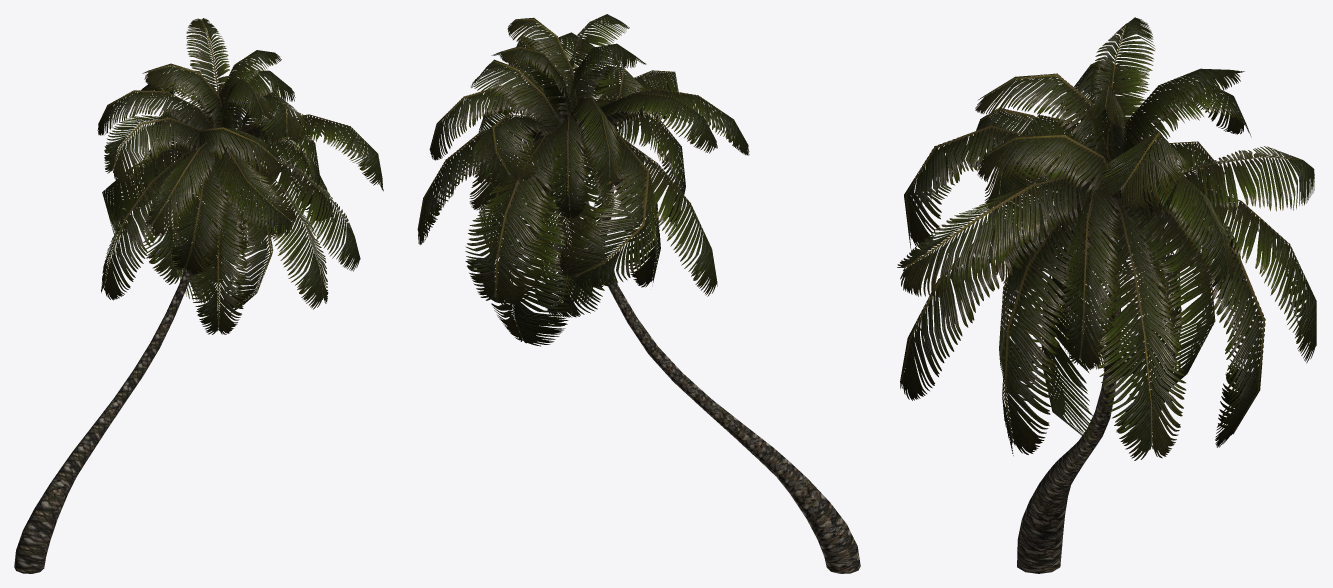
File: palm-bend.glb
3 renders of one model, left to right at view 1: azimuth 30°, elevation 25°; view 2: azimuth 150°, elevation 25°; view 3: azimuth 270°, elevation 25°, orthographic. The views are drawn at different scales.
Parts seen in each view (by area): view 1: palm_bend; view 2: palm_bend; view 3: palm_bend.
Part boxes in pixels (x1,y1,x2,y2): palm_bend: (14,18,383,573); palm_bend: (417,14,860,573); palm_bend: (897,17,1316,573).
Bounding box in the file's own units: 4.9 × 5.88 × 3.42.
1 material, 1 textured.
